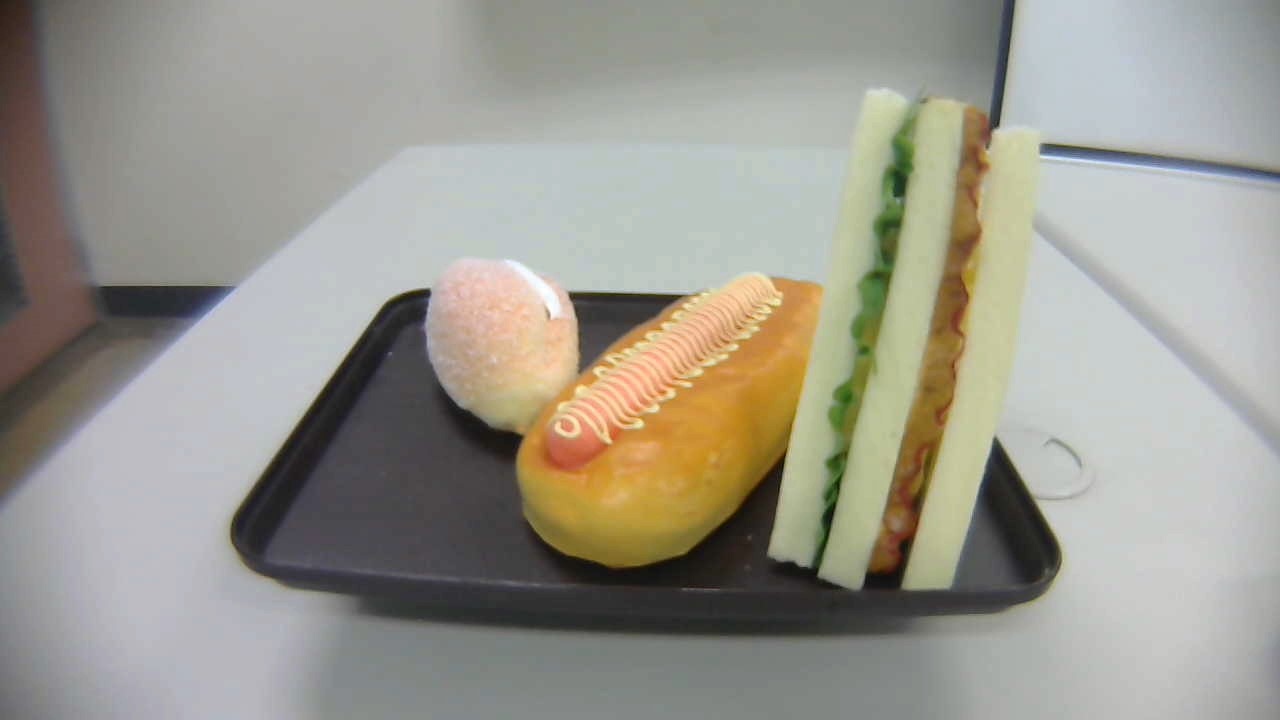coconut: (424, 255, 581, 433)
hot dog: (517, 275, 824, 573)
sandwich: (767, 85, 1044, 598)
